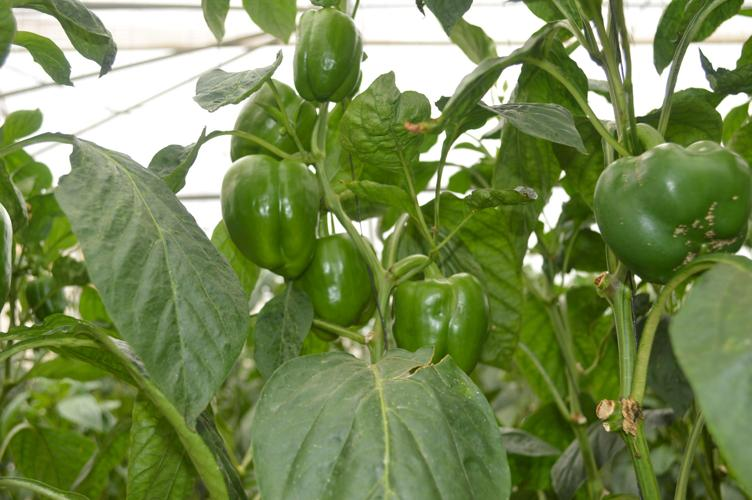BellPepper: (592, 126, 752, 332), (387, 262, 500, 408), (209, 148, 323, 285), (276, 3, 371, 117), (292, 226, 383, 340), (214, 77, 318, 168)
